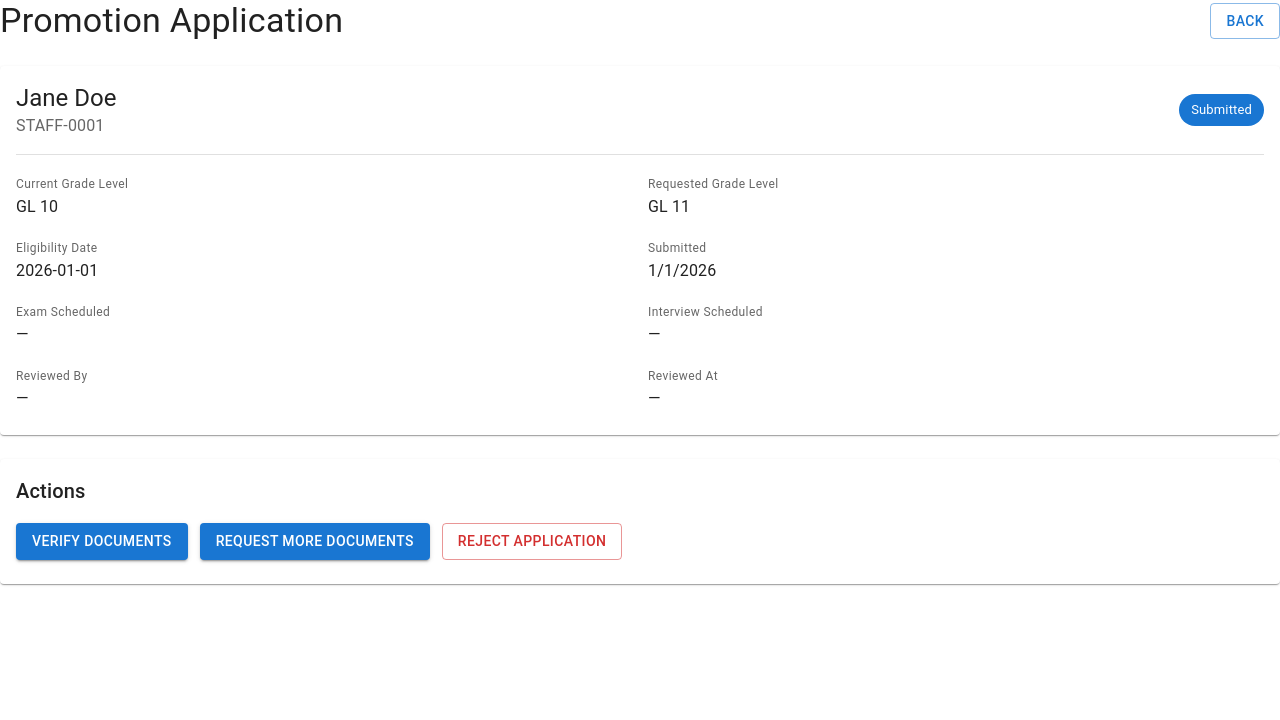
PromotionApplicationDetailPage › requires a comment before submitting a reject action
The width and height of the screenshot is (1280, 720).
Check: the heading "Jane Doe" is shown, box [16,82,116,114]
Click the button "Reject Application" at (532,541), box [442,523,622,560]
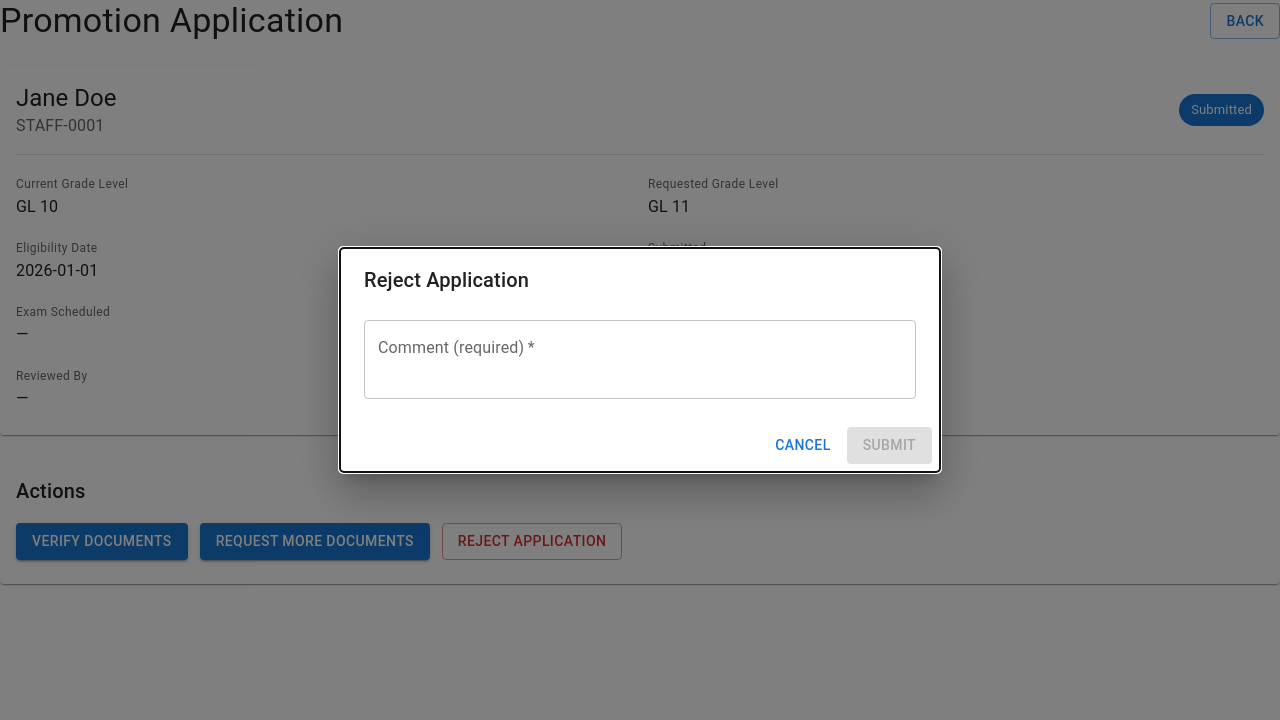
Check: the button "Submit" is disabled, box [847,427,932,464]
Type "Not eligible" into the text box labelled "Comment (required) *" at (640,360), box [378,337,902,383]
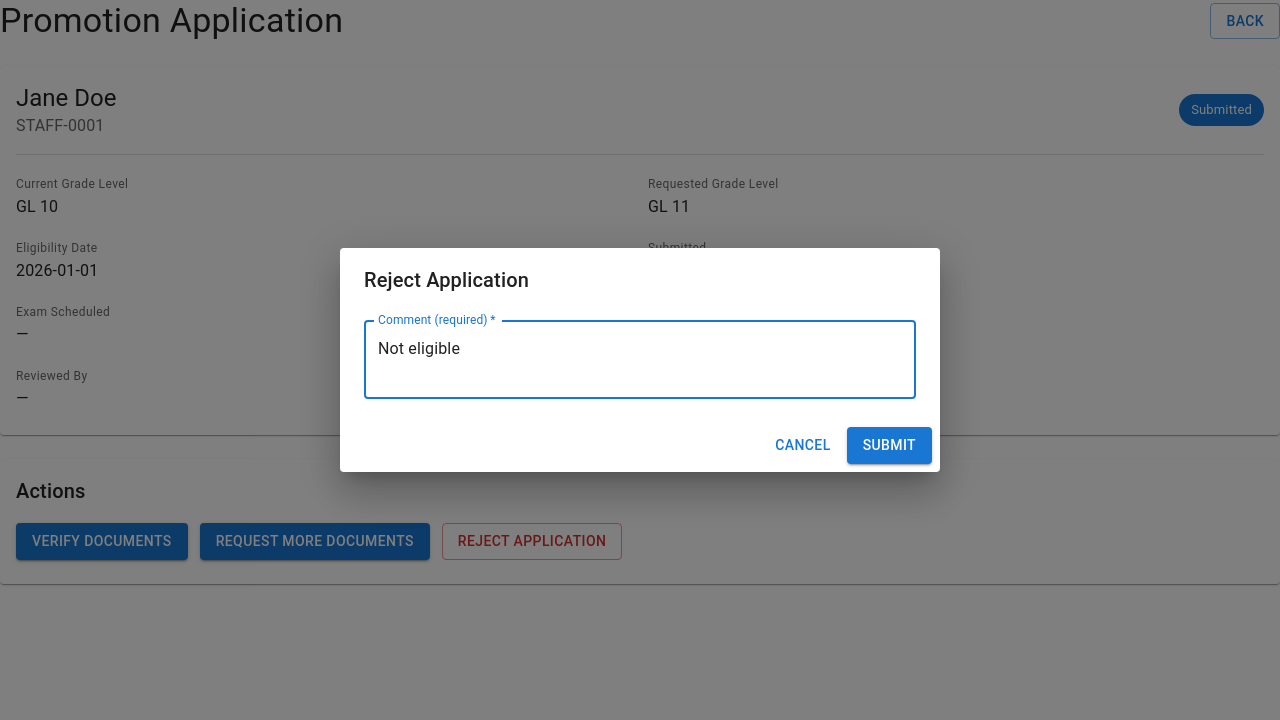
Check: the button "Submit" is enabled, box [847,427,932,464]
